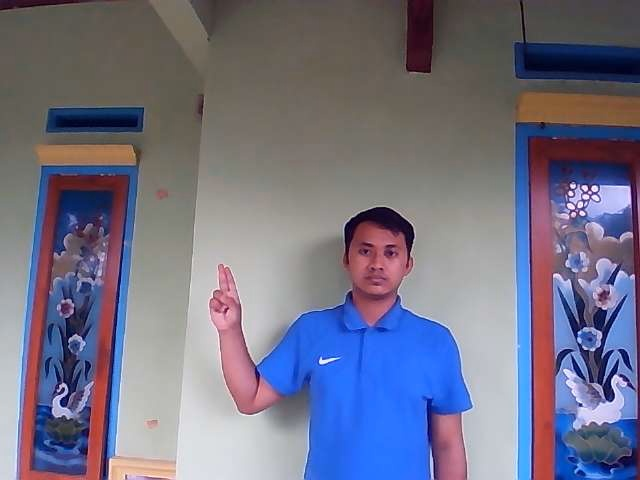U: (208, 264, 242, 331)
